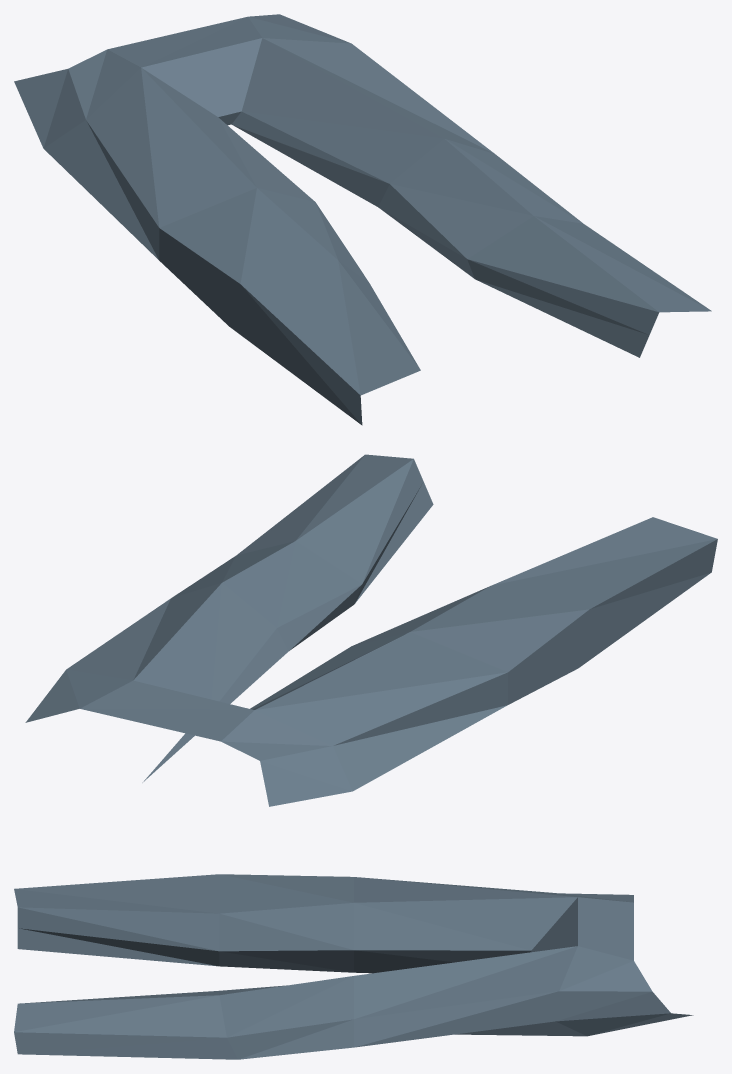
File: calca_drop.glb
3 renders of one model, top to bottom at view 1: azimuth 30°, elevation 25°; view 2: azimuth 150°, elevation 25°; view 3: azimuth 270°, elevation 25°, orthographic. The views are drawn at different scales.
Bounding box in the file's own units: 0.575 × 0.1487 × 1.18.
1 material, 1 textured.
